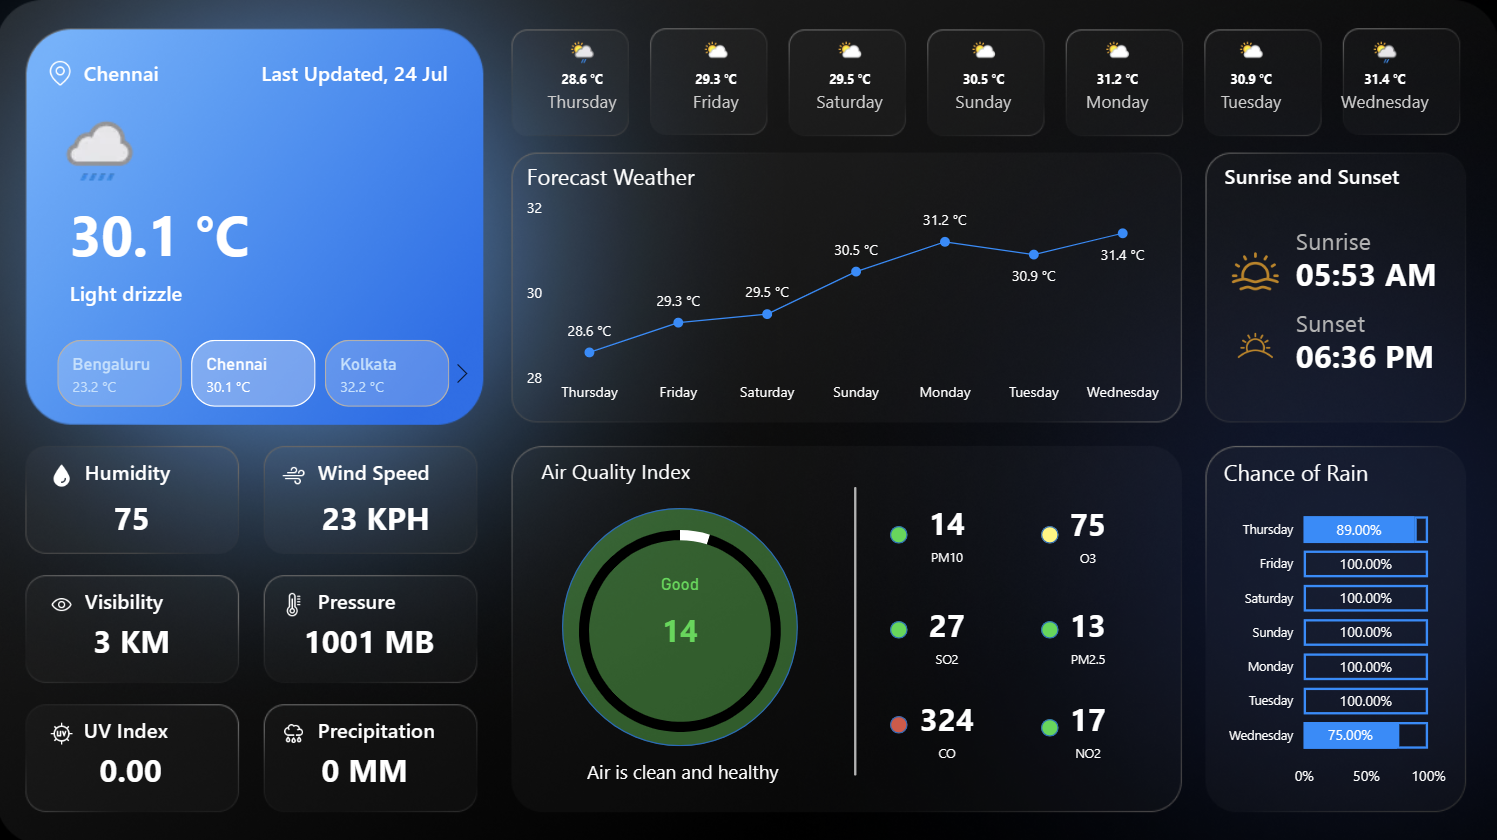

This screenshot's page, from the dashboard's own definition file:
{"tool":"powerbi","page":{"name":"Weather Dashboard","canvas":[1280,720],"ordinal":0},"visuals":[{"type":"shape","box":[482,433,201,203],"z":0},{"type":"advancedSlicerVisual","fields":{"Values":["Locations.location.name"]},"box":[27,285,385,67],"z":1000},{"type":"textbox","box":[58,168,183,67],"z":2000},{"type":"textbox","box":[58,238,354,27],"z":3000},{"type":"textbox","box":[70,50,127,32],"z":4000},{"type":"textbox","box":[190,50,200,32],"z":5000},{"type":"image","box":[39,47,31,31],"z":6000},{"type":"cardVisual","fields":{"Data":["Min(Current.current.condition.icon)"]},"box":[27,66,113,117],"z":7000},{"type":"image","box":[41,390,30,30],"z":8000},{"type":"textbox","title":"Humidity","box":[71,390,90,30],"z":9000},{"type":"textbox","title":"Wind Speed","box":[269,390,109,30],"z":10000},{"type":"textbox","title":"Visibility","box":[71,500,90,30],"z":11000},{"type":"textbox","title":"Pressure","box":[269,500,90,30],"z":12000},{"type":"textbox","title":"UV Index","box":[70,610,90,30],"z":13000},{"type":"textbox","title":"Precipitation","box":[269,610,120,30],"z":14000},{"type":"image","box":[239,390,30,30],"z":15000},{"type":"image","box":[41,500,30,30],"z":16000},{"type":"image","box":[239,500,30,30],"z":17000},{"type":"image","box":[41,610,30,30],"z":18000},{"type":"image","box":[239,610,30,30],"z":19000},{"type":"card","fields":{"Values":["Sum(Current.current.humidity)"]},"box":[71,412,90,60],"z":20000},{"type":"card","fields":{"Values":["_Measures.Wind Speed"]},"box":[269,412,109,60],"z":21000},{"type":"card","fields":{"Values":["_Measures.Pressure"]},"box":[254,517,128,60],"z":22000},{"type":"card","fields":{"Values":["Sum(Current.current.uv)"]},"box":[70,627,90,60],"z":23000},{"type":"card","fields":{"Values":["_Measures.Visibility"]},"box":[71,517,90,60],"z":24000},{"type":"card","fields":{"Values":["_Measures.Precipitation"]},"box":[269,627,90,60],"z":25000},{"type":"advancedSlicerVisual","fields":{"Values":["Forecast_Day.Day_Name"]},"box":[441,26,806,88],"z":26000},{"type":"lineChart","title":"Forecast Weather","fields":{"Y":["Sum(Forecast_Day.forecast.forecastday.day.avgtemp_c)"],"Category":["Forecast_Day.Day_Name"]},"box":[447,138,555,214],"z":27000},{"type":"textbox","box":[1103,215,144,41],"z":28000},{"type":"textbox","title":"Sunrise and Sunset","box":[1032,138,179,32],"z":29000},{"type":"textbox","box":[1103,285,144,41],"z":30000},{"type":"textbox","title":"Sunrise","box":[1103,191,144,24],"z":31000},{"type":"textbox","title":"Sunset","box":[1103,261,144,24],"z":32000},{"type":"image","box":[1048,269,50,50],"z":33000},{"type":"image","box":[1048,206,50,50],"z":34000},{"type":"hundredPercentStackedBarChart","title":"Chance of Rain","fields":{"Category":["Forecast_Day.Day_Name"],"Y":["Sum(Forecast_Day.forecast.forecastday.day.daily_chance_of_rain)","_Measures.Left_Value_Rain"]},"box":[1041,390,199,289],"z":35000},{"type":"textbox","title":"Air Quality Index","box":[452,389,153,32],"z":36000},{"type":"card","fields":{"Values":["Sum(Current.current.air_quality.pm10)"]},"box":[770,414,80,80],"z":37000},{"type":"card","fields":{"Values":["Sum(Current.current.air_quality.o3)"]},"box":[890,415,80,80],"z":38000},{"type":"card","fields":{"Values":["Sum(Current.current.air_quality.so2)"]},"box":[770,501,80,80],"z":39000},{"type":"card","fields":{"Values":["Sum(Current.current.air_quality.pm2_5)"]},"box":[890,501,80,80],"z":40000},{"type":"card","fields":{"Values":["Sum(Current.current.air_quality.co)"]},"box":[770,581,80,80],"z":41000},{"type":"card","fields":{"Values":["Sum(Current.current.air_quality.no2)"]},"box":[890,581,80,80],"z":42000},{"type":"shape","box":[762,448,15,15],"z":43000},{"type":"shape","box":[890,529,15,15],"z":44000},{"type":"shape","box":[890,448,15,15],"z":45000},{"type":"shape","box":[762,529,15,15],"z":46000},{"type":"shape","box":[762,610,15,15],"z":47000},{"type":"shape","box":[890,613,15,15],"z":48000},{"type":"shape","box":[719,415,26,246],"z":49000},{"type":"card","fields":{"Values":["Sum(Current.current.air_quality.pm10)"]},"box":[543,490,80,80],"z":50000},{"type":"donutChart","fields":{"Y":["Sum(Current.current.air_quality.pm10)","_Measures.Left_Value_PM10"]},"box":[465,425,235,225],"z":51000},{"type":"textbox","box":[452,647,267,48],"z":52000}]}

Visuals, with their boxes in screenshot pixels (x1, y1, x2, y2), scaled from the page's 1280x720 canvas onto the 1497x840 screenshot:
shape: detection(564, 505, 799, 742)
advancedSlicerVisual - Locations.location.name: detection(32, 332, 482, 411)
textbox: detection(68, 196, 282, 274)
textbox: detection(68, 278, 482, 309)
textbox: detection(82, 58, 230, 96)
textbox: detection(222, 58, 456, 96)
image: detection(46, 55, 82, 91)
cardVisual - Min(Current.current.condition.icon): detection(32, 77, 164, 214)
image: detection(48, 455, 83, 490)
"Humidity" textbox: detection(83, 455, 188, 490)
"Wind Speed" textbox: detection(315, 455, 442, 490)
"Visibility" textbox: detection(83, 583, 188, 618)
"Pressure" textbox: detection(315, 583, 420, 618)
"UV Index" textbox: detection(82, 712, 187, 747)
"Precipitation" textbox: detection(315, 712, 455, 747)
image: detection(280, 455, 315, 490)
image: detection(48, 583, 83, 618)
image: detection(280, 583, 315, 618)
image: detection(48, 712, 83, 747)
image: detection(280, 712, 315, 747)
card - Sum(Current.current.humidity): detection(83, 481, 188, 551)
card - _Measures.Wind Speed: detection(315, 481, 442, 551)
card - _Measures.Pressure: detection(297, 603, 447, 673)
card - Sum(Current.current.uv): detection(82, 732, 187, 802)
card - _Measures.Visibility: detection(83, 603, 188, 673)
card - _Measures.Precipitation: detection(315, 732, 420, 802)
advancedSlicerVisual - Forecast_Day.Day_Name: detection(516, 30, 1458, 133)
"Forecast Weather" lineChart: detection(523, 161, 1172, 411)
textbox: detection(1290, 251, 1458, 299)
"Sunrise and Sunset" textbox: detection(1207, 161, 1416, 198)
textbox: detection(1290, 332, 1458, 380)
"Sunrise" textbox: detection(1290, 223, 1458, 251)
"Sunset" textbox: detection(1290, 304, 1458, 332)
image: detection(1226, 314, 1284, 372)
image: detection(1226, 240, 1284, 299)
"Chance of Rain" hundredPercentStackedBarChart: detection(1217, 455, 1450, 792)
"Air Quality Index" textbox: detection(529, 454, 708, 491)
card - Sum(Current.current.air_quality.pm10): detection(901, 483, 994, 576)
card - Sum(Current.current.air_quality.o3): detection(1041, 484, 1134, 578)
card - Sum(Current.current.air_quality.so2): detection(901, 584, 994, 678)
card - Sum(Current.current.air_quality.pm2_5): detection(1041, 584, 1134, 678)
card - Sum(Current.current.air_quality.co): detection(901, 678, 994, 771)
card - Sum(Current.current.air_quality.no2): detection(1041, 678, 1134, 771)
shape: detection(891, 523, 909, 540)
shape: detection(1041, 617, 1058, 635)
shape: detection(1041, 523, 1058, 540)
shape: detection(891, 617, 909, 635)
shape: detection(891, 712, 909, 729)
shape: detection(1041, 715, 1058, 733)
shape: detection(841, 484, 871, 771)
card - Sum(Current.current.air_quality.pm10): detection(635, 572, 729, 665)
donutChart - Sum(Current.current.air_quality.pm10) x _Measures.Left_Value_PM10: detection(544, 496, 819, 758)
textbox: detection(529, 755, 841, 811)
